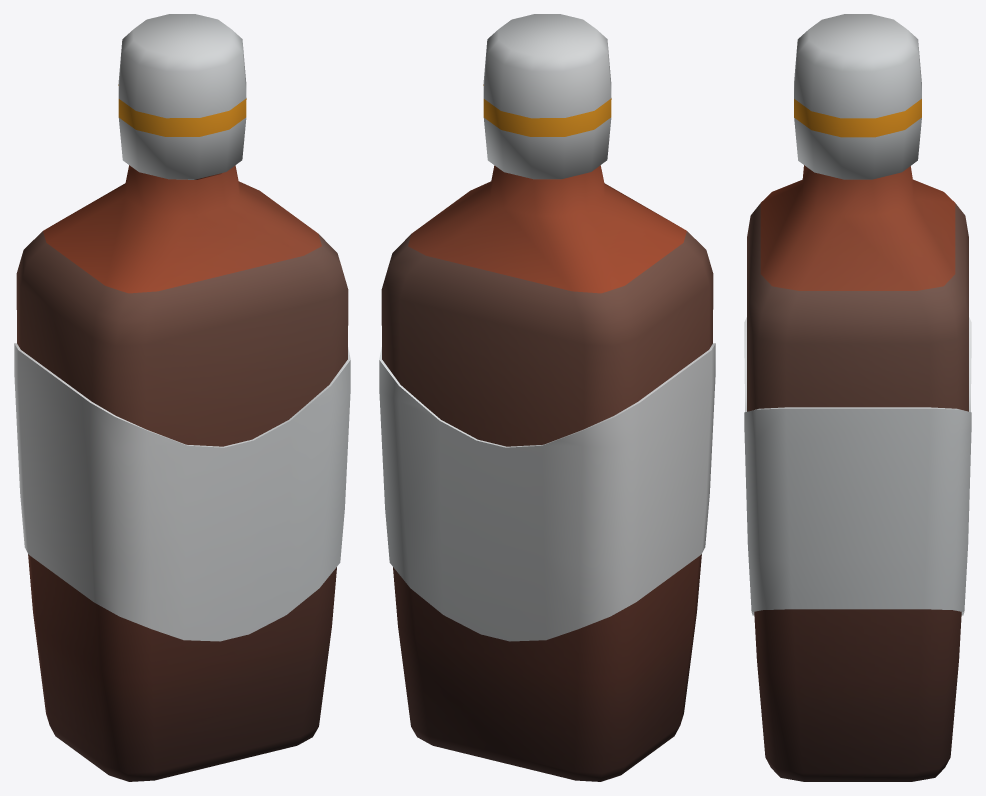
Rendered from bottle_014.fbx.
3 renders of one model, left to right at view 1: azimuth 30°, elevation 25°; view 2: azimuth 150°, elevation 25°; view 3: azimuth 270°, elevation 25°, orthographic.
Visible parts, largest first — view 1: bottle_014; view 2: bottle_014; view 3: bottle_014.
Boxes of the visible parts, box(x1,y1,x2,y2) form: bottle_014: box(14, 14, 350, 781); bottle_014: box(379, 14, 715, 781); bottle_014: box(744, 14, 971, 781).
Size of the model in its own units: 11.1 by 8.49 by 28.98.
